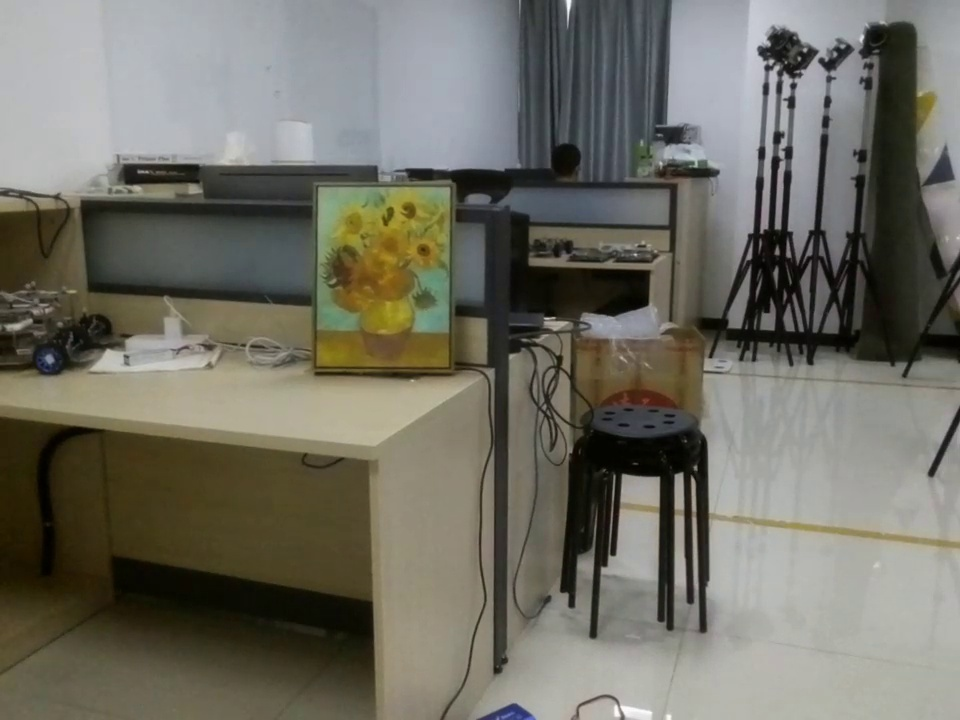painting: (301, 172, 473, 378)
